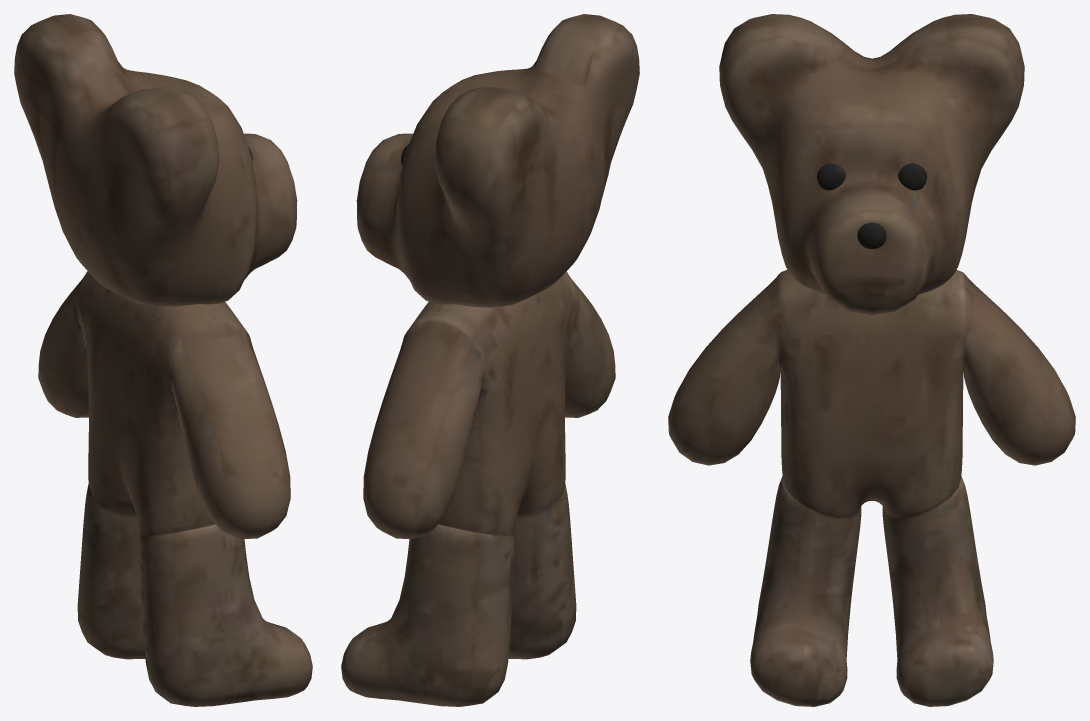
File: obj_teddy_bear_2.glb
3 views of the same model, side by side, from view 1: azimuth 30°, elevation 25°; view 2: azimuth 150°, elevation 25°; view 3: azimuth 270°, elevation 25° (orthographic). The views are drawn at different scales.
Parts seen in each view (by area): view 1: Body_Material_0; view 2: Body_Material_0; view 3: Body_Material_0.
Boxes of the visible parts, x1=… form: Body_Material_0: x1=14, y1=14, x2=312, y2=706; Body_Material_0: x1=341, y1=14, x2=639, y2=706; Body_Material_0: x1=668, y1=14, x2=1075, y2=706.
Bounding box in the file's own units: 0.1032 × 0.3 × 0.1776.
Materials: 1 (1 with a texture image).
